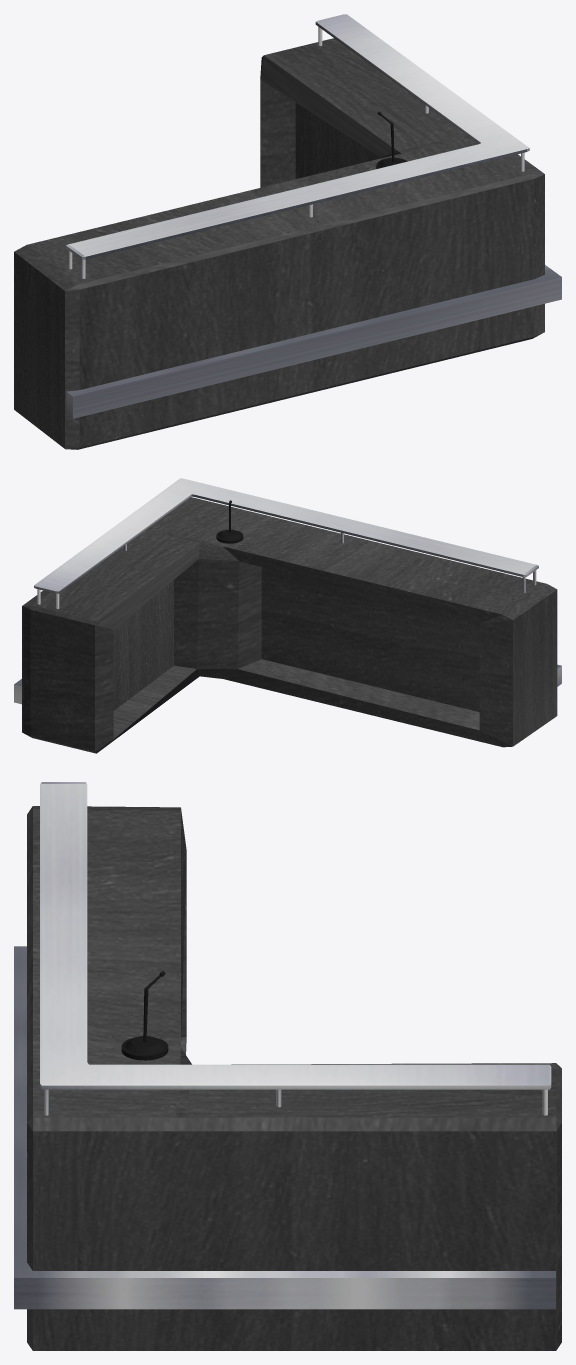
The model's file is INFODESK.fbx.
The picture shows the model from 3 angles, top to bottom: view 1: azimuth 30°, elevation 25°; view 2: azimuth 150°, elevation 25°; view 3: azimuth 270°, elevation 25°; orthographic projection. The views are drawn at different scales.
Parts seen in each view (by area): view 1: Cube, Cube.003, Cube.001; view 2: Cube, Cube.003, Cylinder.007; view 3: Cube, Cube.003, Cube.001, Cylinder.007.
Boxes of the visible parts, left/top/right/bottom form: Cube: left=14, top=38, right=544, bottom=449; Cube.003: left=66, top=14, right=529, bottom=259; Cube.001: left=66, top=265, right=561, bottom=418; Cube: left=22, top=497, right=557, bottom=753; Cube.003: left=34, top=478, right=538, bottom=593; Cylinder.007: left=216, top=500, right=243, bottom=543; Cube: left=27, top=806, right=561, bottom=1350; Cube.003: left=40, top=782, right=551, bottom=1089; Cube.001: left=14, top=946, right=555, bottom=1309; Cylinder.007: left=121, top=971, right=168, bottom=1060.
Bounding box in the file's own units: 1026 × 438 × 715.
